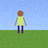person: (15, 10, 26, 33)
